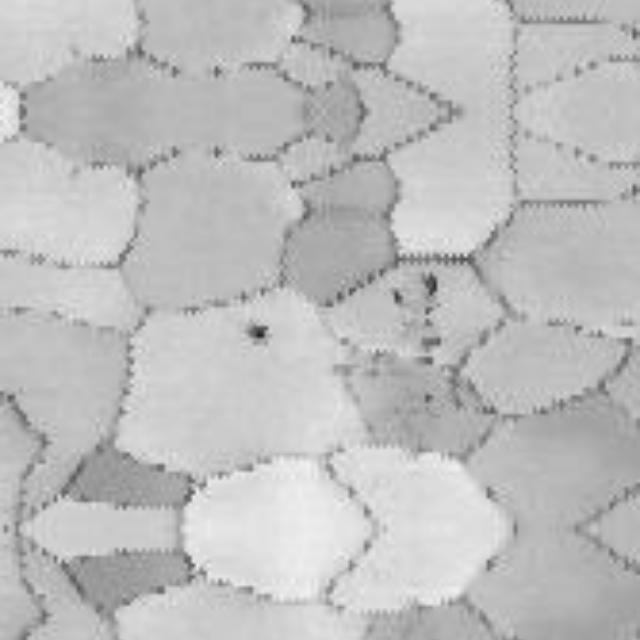good_void: (418, 270, 440, 298), (247, 324, 272, 348), (416, 334, 442, 352), (392, 289, 404, 305), (424, 392, 435, 404), (424, 304, 434, 317)
